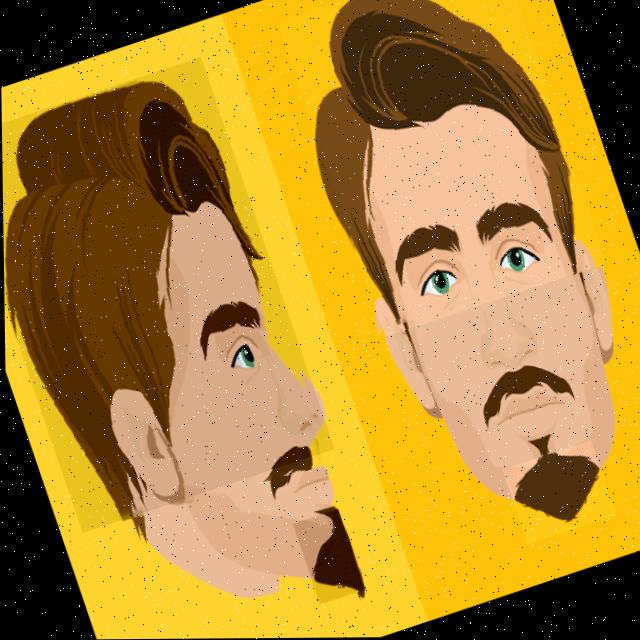beard: (508, 452, 599, 528), (312, 511, 359, 592)
hair: (4, 83, 265, 521), (315, 0, 581, 305)
